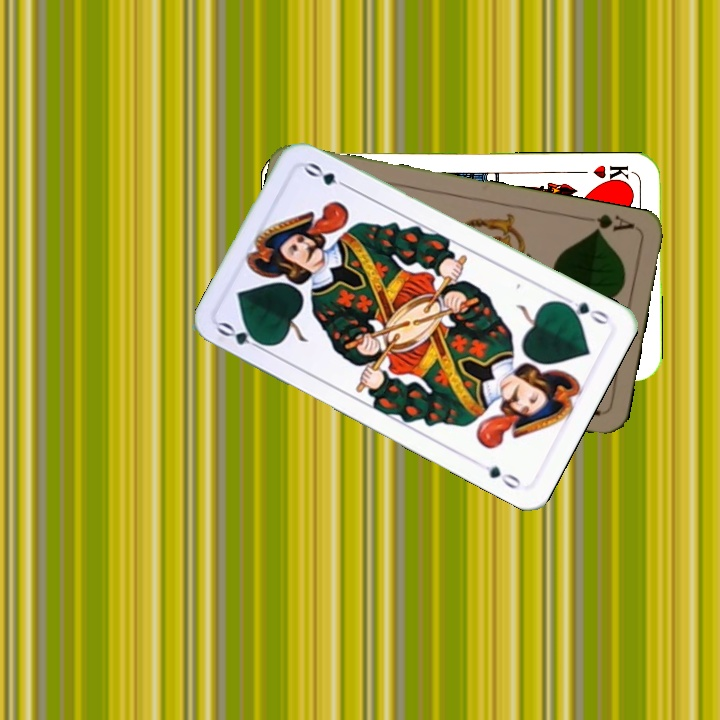GA: (588, 210, 638, 237)
GO: (213, 318, 272, 355), (556, 292, 612, 328)
HK: (589, 160, 635, 186)
